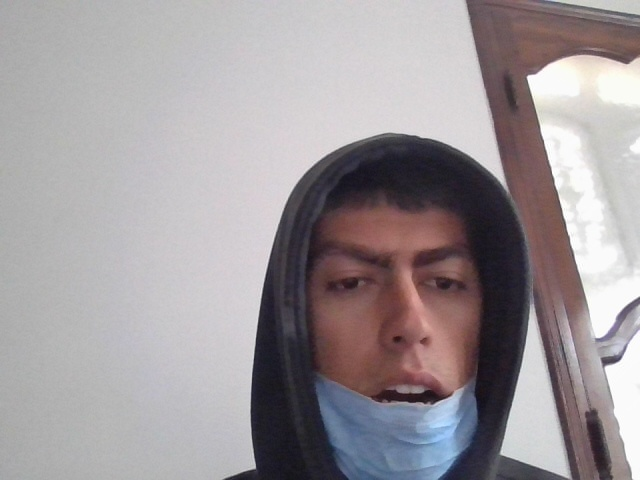mask_weared_incorrect: (286, 173, 489, 480)
